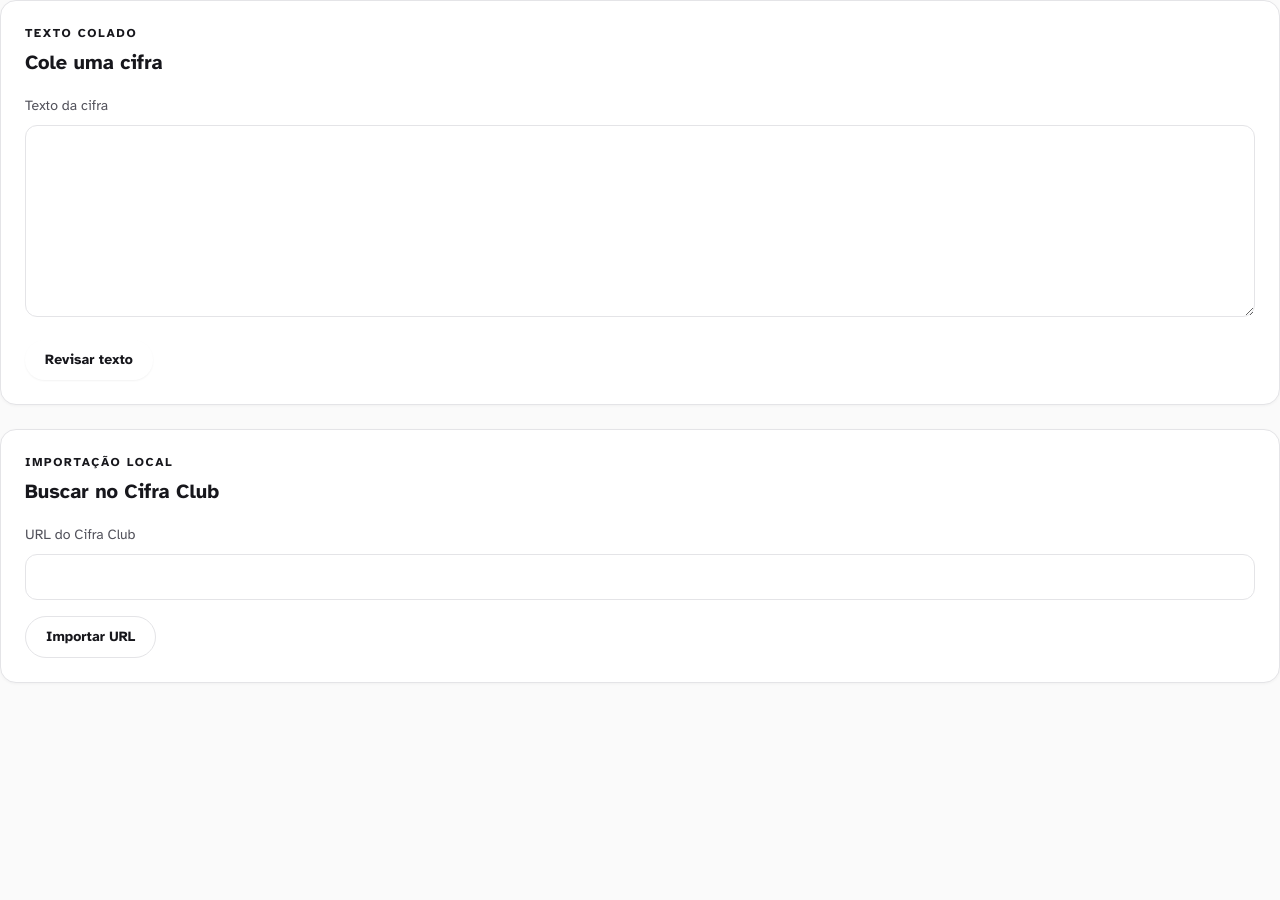
Test case: ImportWorkflow › offers paste fallback after a source failure
In the field labelled "URL do Cifra Club": [640, 577] box [25,554,1255,600], type "https://www.cifraclub.com.br/artista/cancao/"
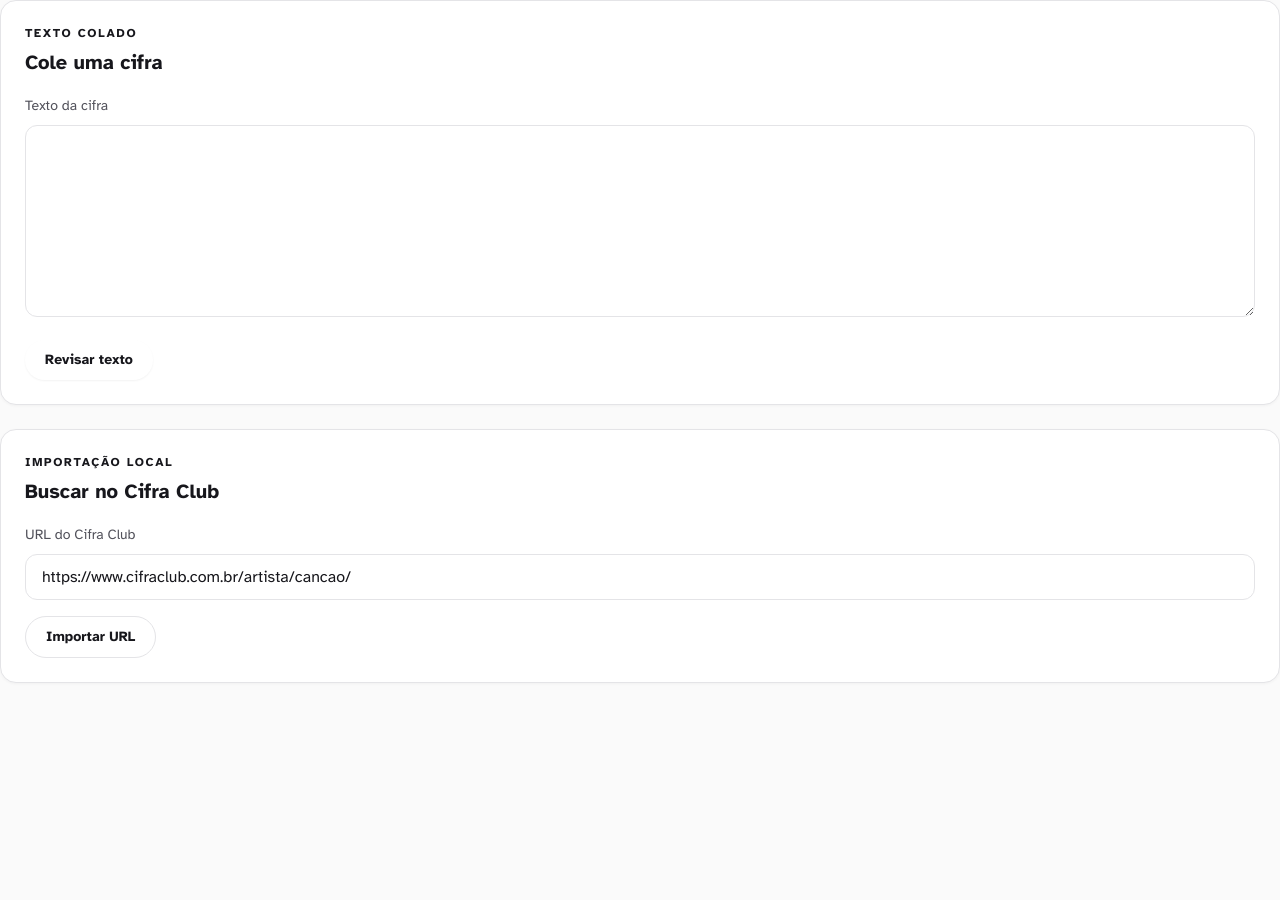
Click the button "Importar URL": [91, 637] box [25,616,156,658]
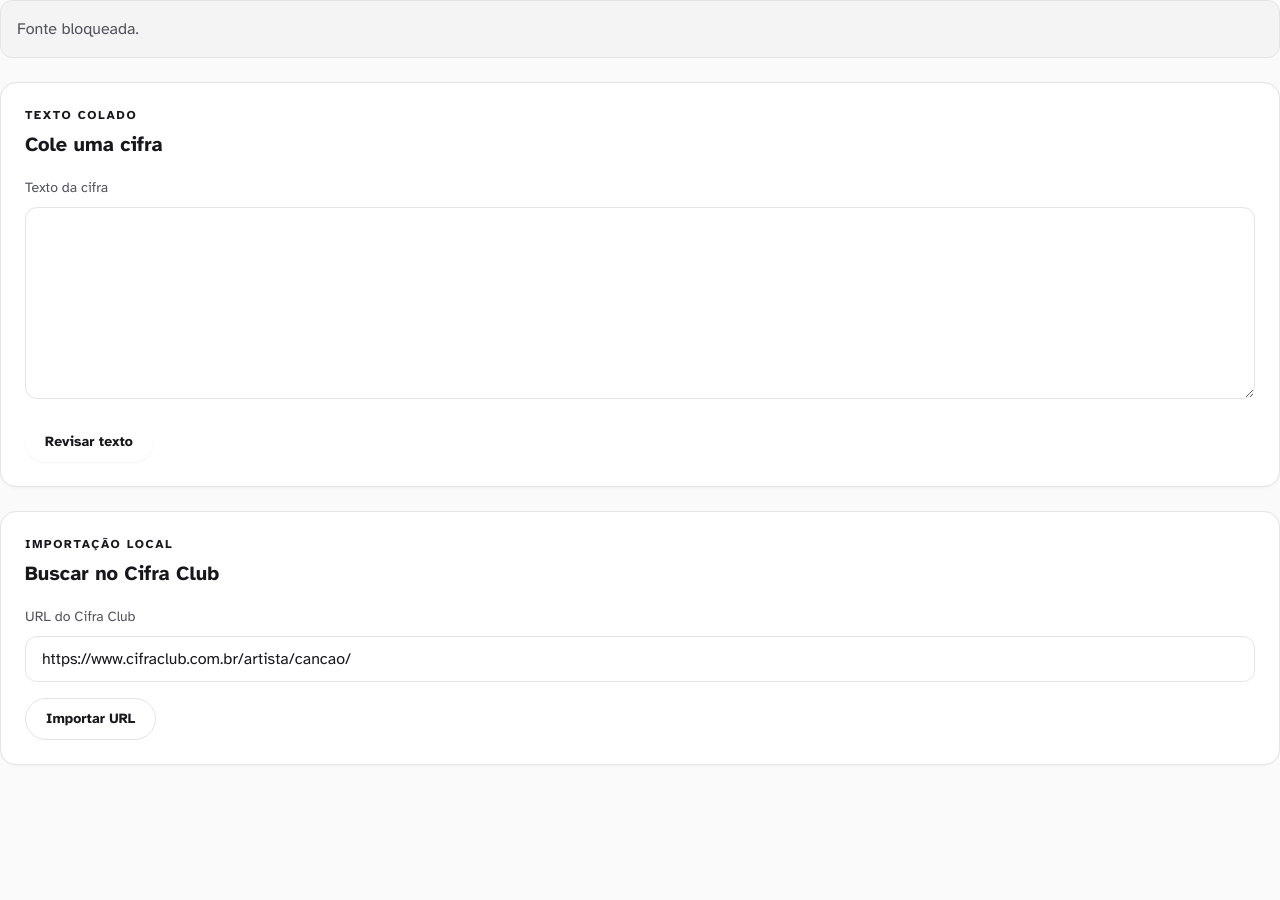
Expected: the text box labelled "Texto da cifra" is shown, [25,207,1255,399]
Now the message reads "Fonte bloqueada.", box [17,19,139,39]
